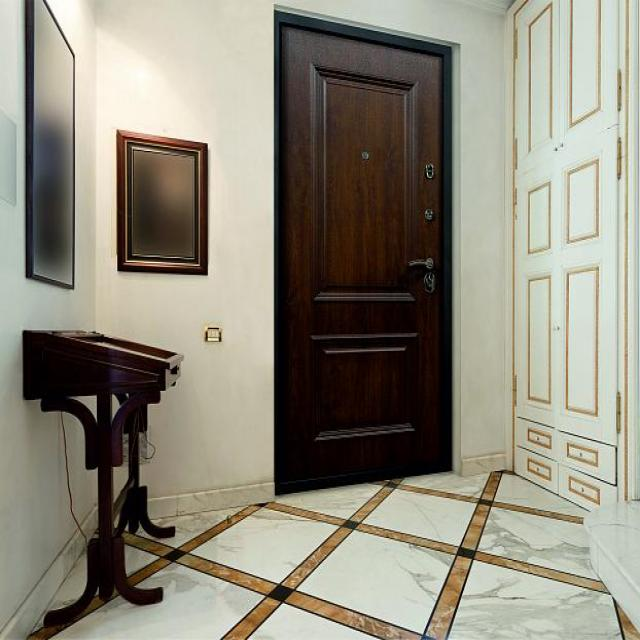close: (274, 16, 451, 478)
